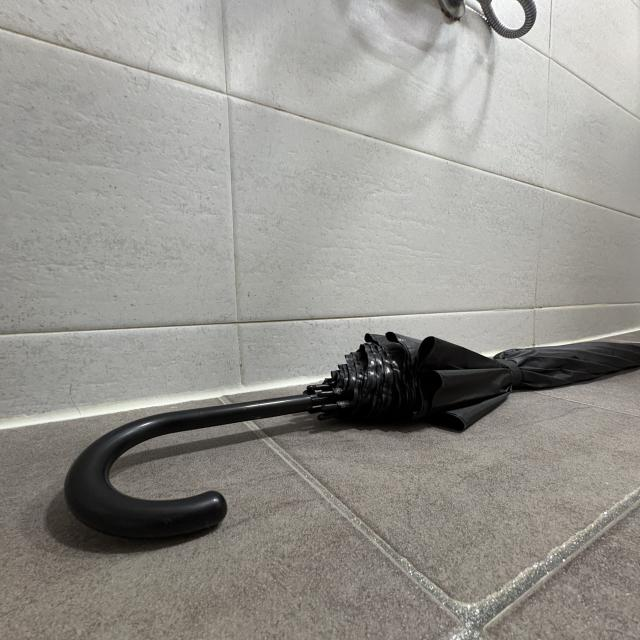umbrella: (70, 330, 640, 543)
